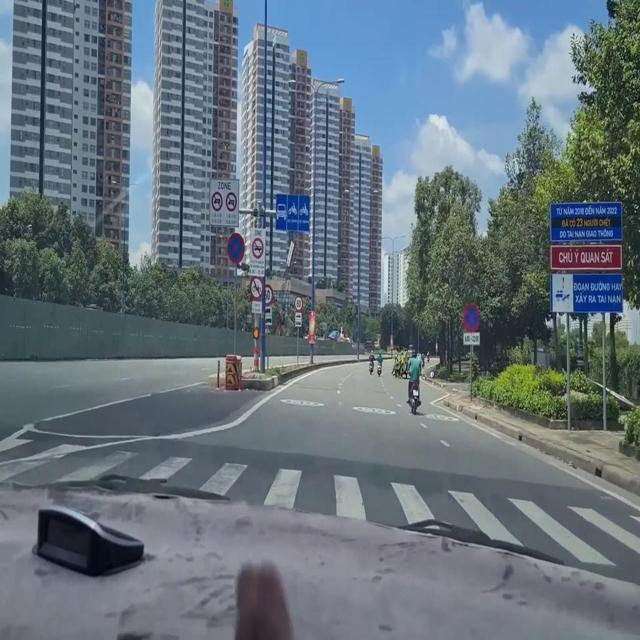Biển phụ: (462, 329, 481, 345), (263, 303, 277, 324), (295, 310, 301, 328)
Cấm các phương tiện hoạt động trong khung giờ cố định: (207, 171, 240, 225), (246, 222, 266, 273)
Cấm dừng - Cấm đỗ: (222, 226, 246, 266), (462, 297, 483, 332)
Cấm xe máy: (248, 273, 263, 303)
Giới hạn tốc độ: 60Km/h: (259, 282, 276, 303)
Giới hạn tốc độ: 80Km/h: (293, 293, 303, 311)
Khác: (542, 195, 619, 312)
Làn đường cho từng xe: (273, 185, 312, 233)
